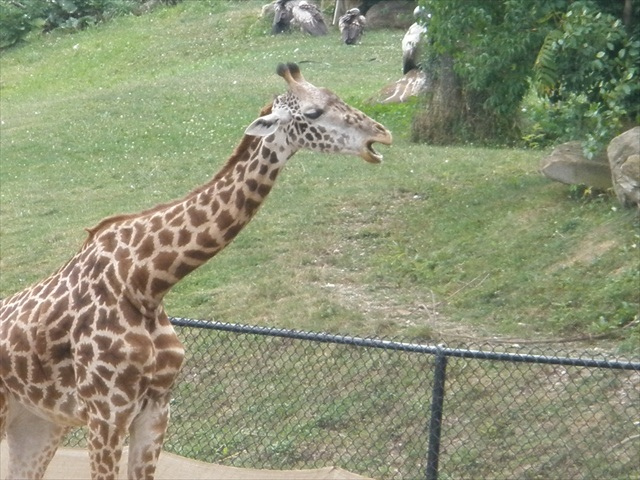giraffe: (33, 90, 406, 446)
